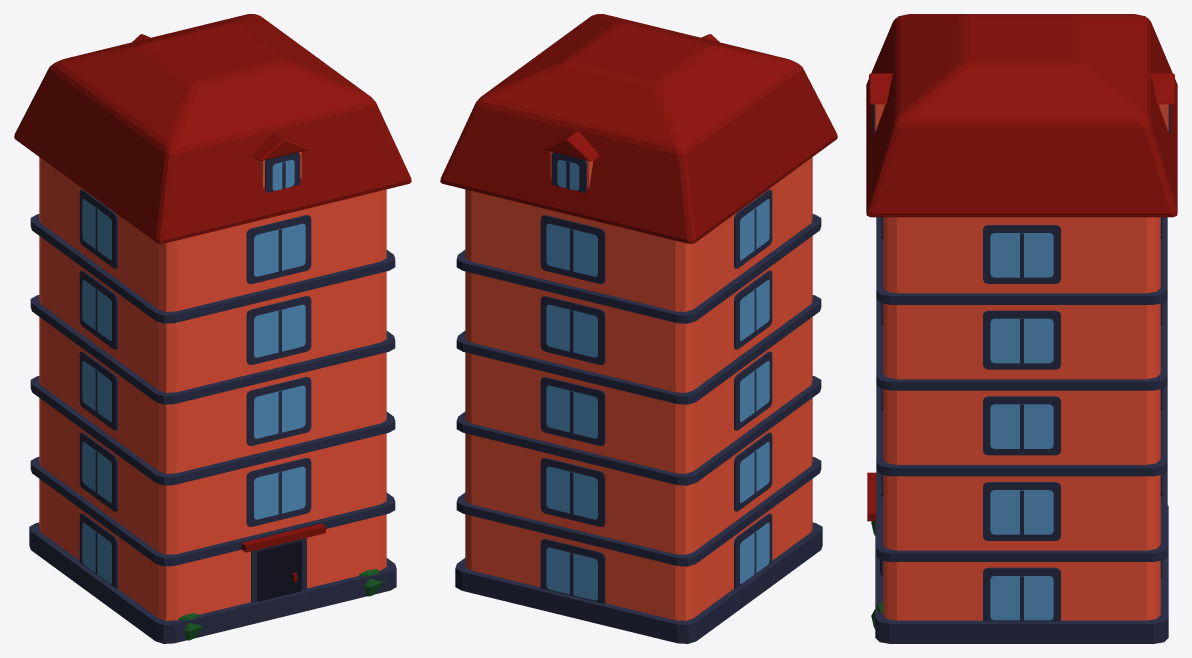
Rendered from house-1x1-5f-mansard-c.glb.
The picture shows the model from 3 angles, left to right: view 1: azimuth 30°, elevation 25°; view 2: azimuth 150°, elevation 25°; view 3: azimuth 270°, elevation 25°; orthographic projection. The views are drawn at different scales.
Parts seen in each view (by area): view 1: house-1x1-5f-mansard-c; view 2: house-1x1-5f-mansard-c; view 3: house-1x1-5f-mansard-c.
Boxes of the visible parts, x1=… form: house-1x1-5f-mansard-c: x1=14, y1=14, x2=411, y2=643; house-1x1-5f-mansard-c: x1=440, y1=14, x2=837, y2=643; house-1x1-5f-mansard-c: x1=866, y1=14, x2=1177, y2=643.
Bounding box in the file's own units: 0.9876 × 1.9 × 0.9876.
1 material, 1 textured.
